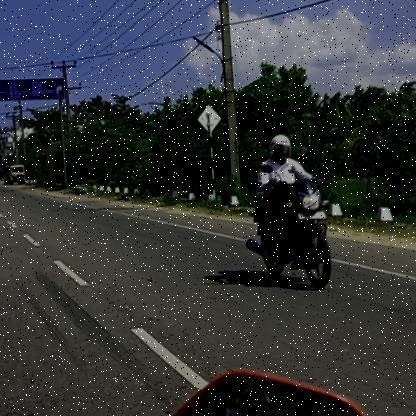motorcycle: (237, 176, 350, 296)
